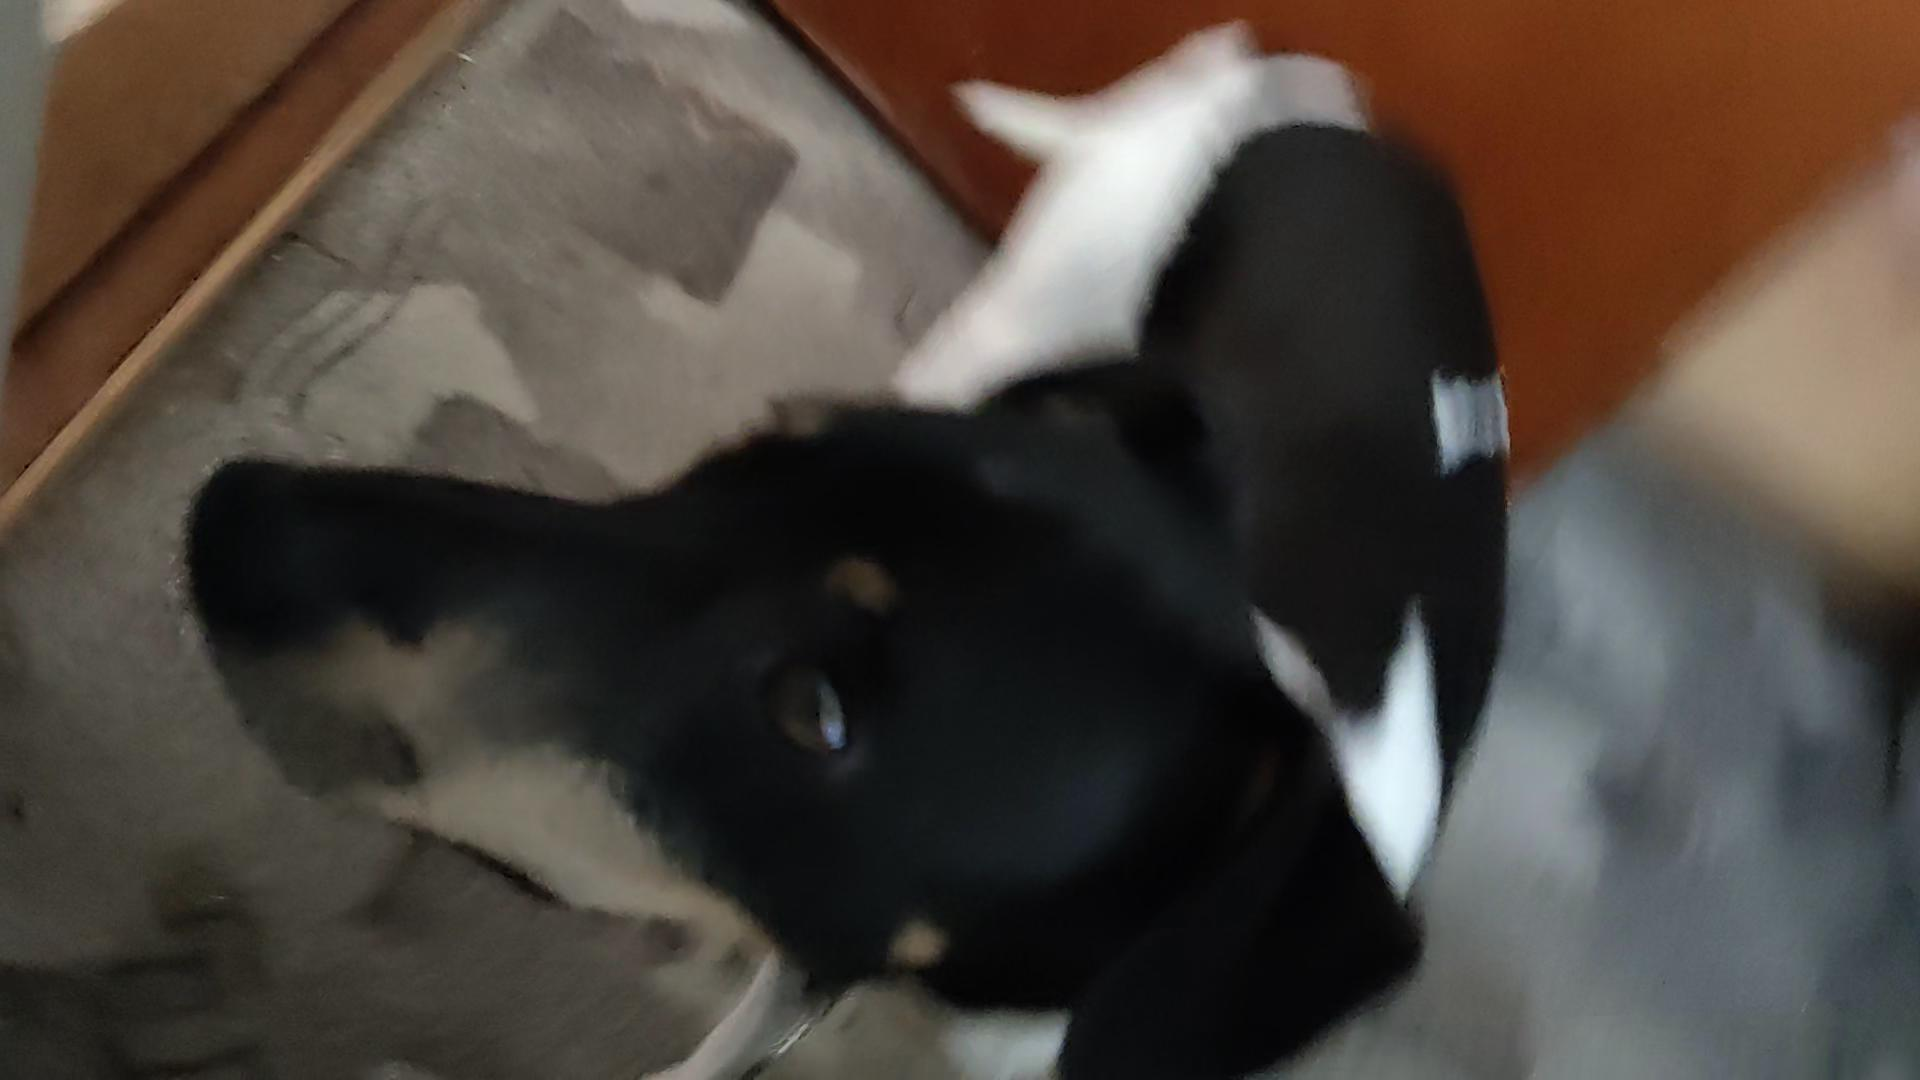Dog: (174, 21, 1514, 1079)
